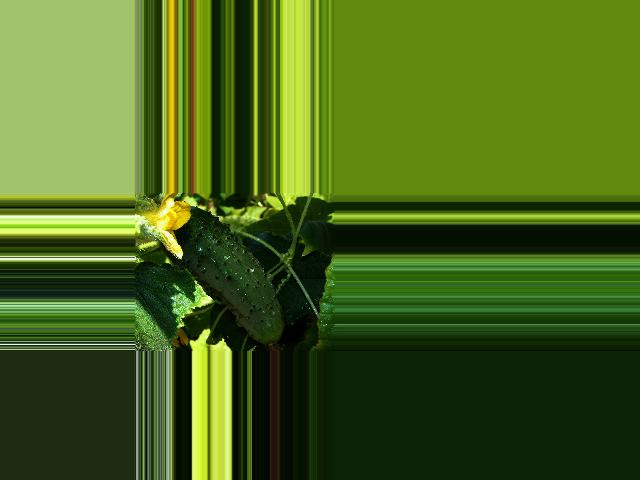cucumber: (160, 206, 285, 352)
